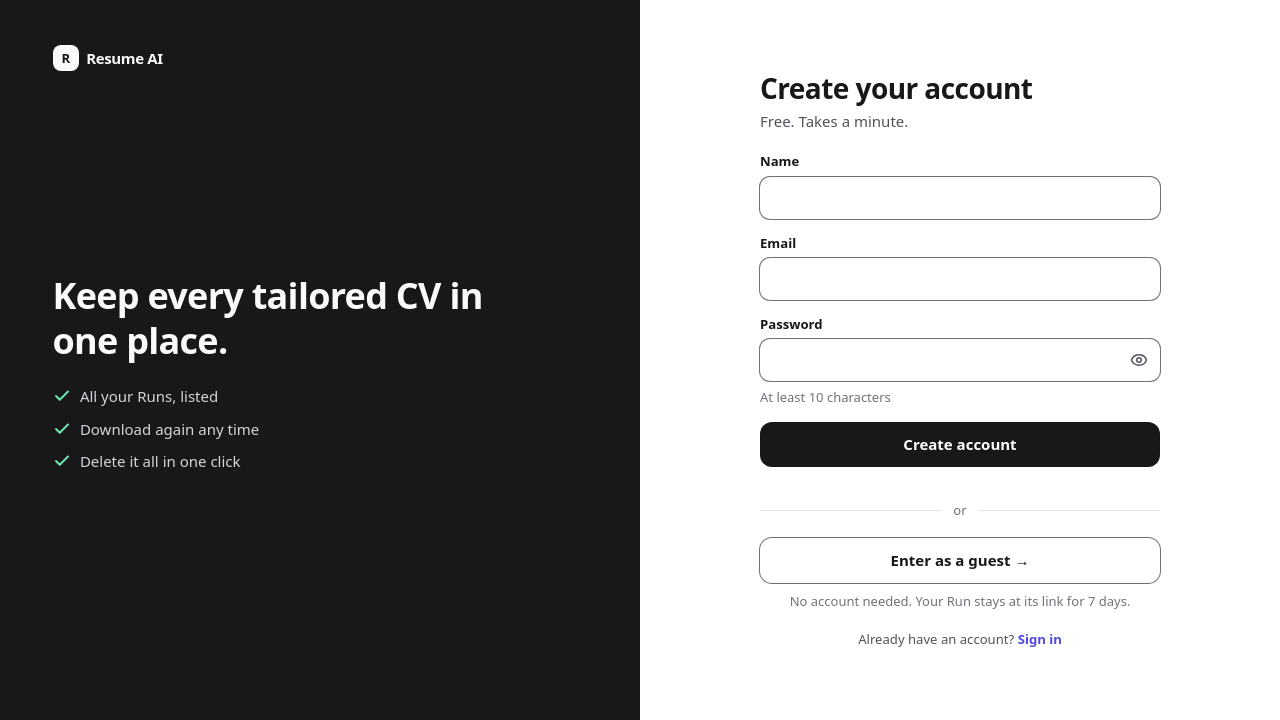
Test: Sign up › links to Sign in
Step 1. Click the link "Sign in" → click(1040, 639), box [1018,630,1062,648]
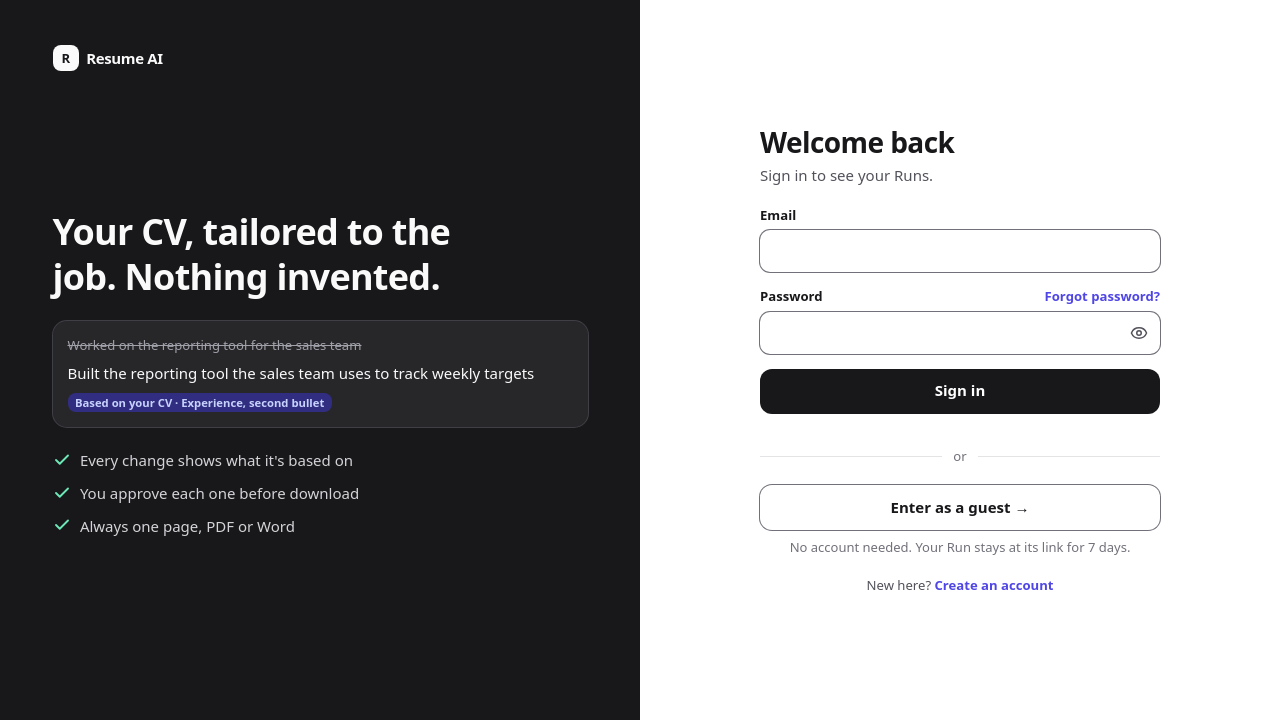
Now the heading "Welcome back" is shown, box [760,123,954,161]
